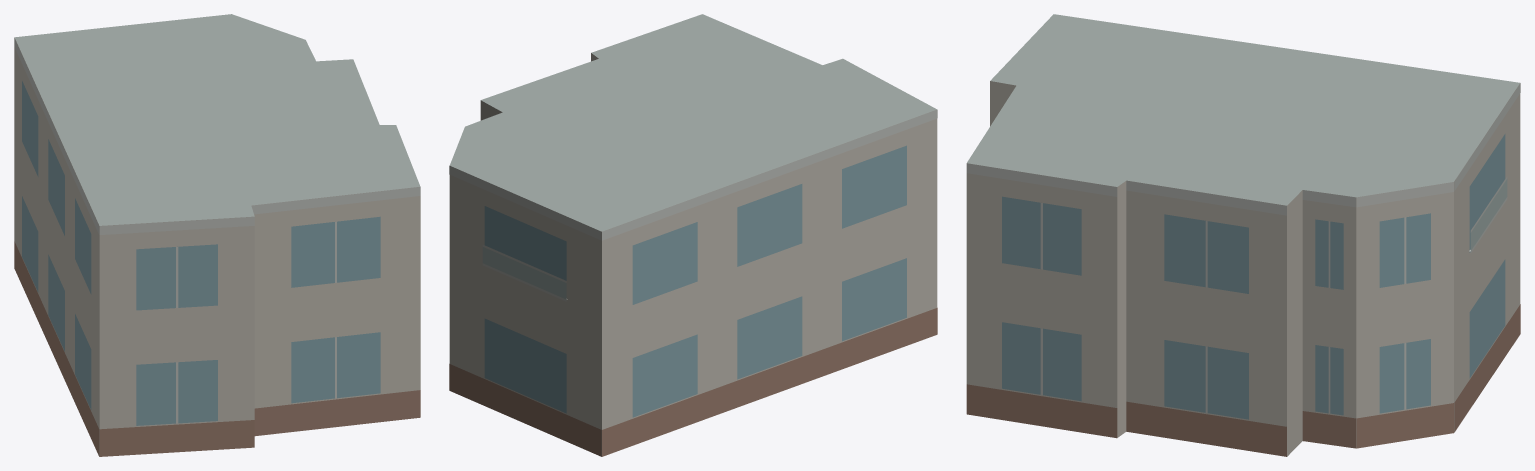
Rendered from survey-upis-32878287.glb.
3 renders of one model, left to right at view 1: azimuth 30°, elevation 25°; view 2: azimuth 150°, elevation 25°; view 3: azimuth 270°, elevation 25°, orthographic. The views are drawn at different scales.
Parts seen in each view (by area): view 1: survey-upis-32878287.tmp; view 2: survey-upis-32878287.tmp; view 3: survey-upis-32878287.tmp.
Part boxes in pixels (x1,y1,x2,y2): survey-upis-32878287.tmp: (14,14,420,456); survey-upis-32878287.tmp: (449,14,937,456); survey-upis-32878287.tmp: (966,14,1520,456).
Bounding box in the file's own units: 10 × 6.1 × 12.2.
